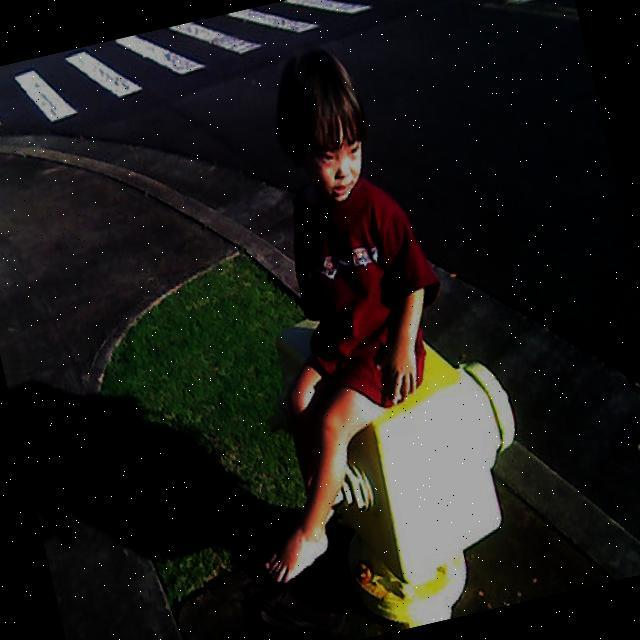fire_hydrant: (245, 271, 556, 640)
